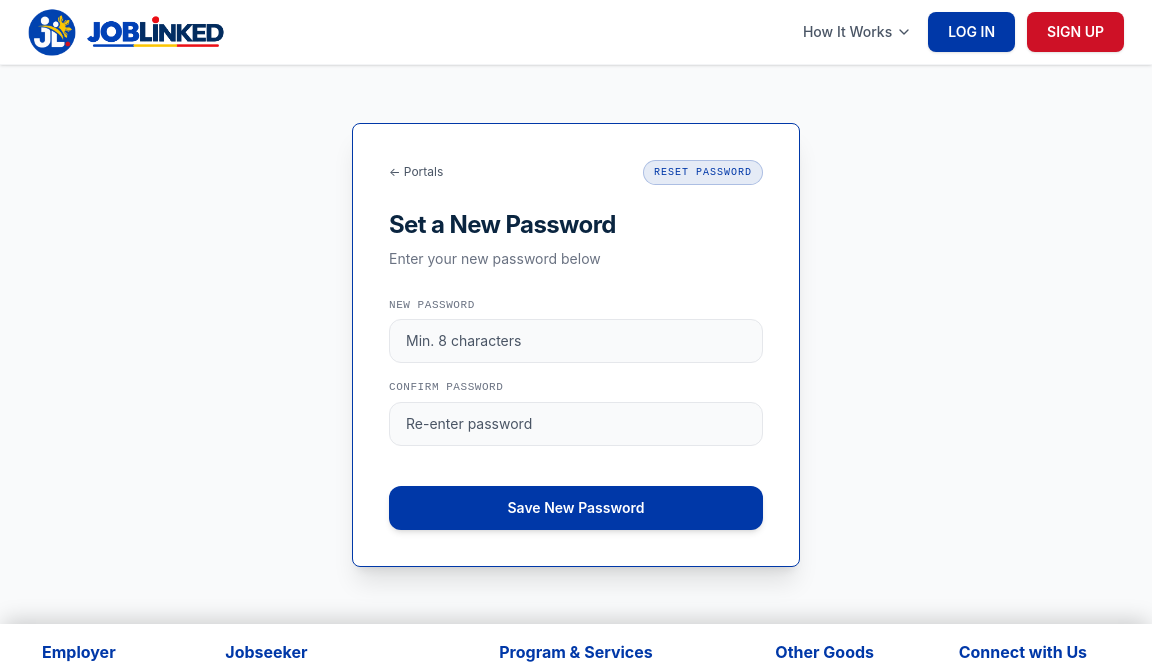
Test: ResetPassword › shows an error when the update fails
Type "password123" into the password field labelled "New Password" at (576, 341), box x1=389 y1=319 x2=763 y2=363
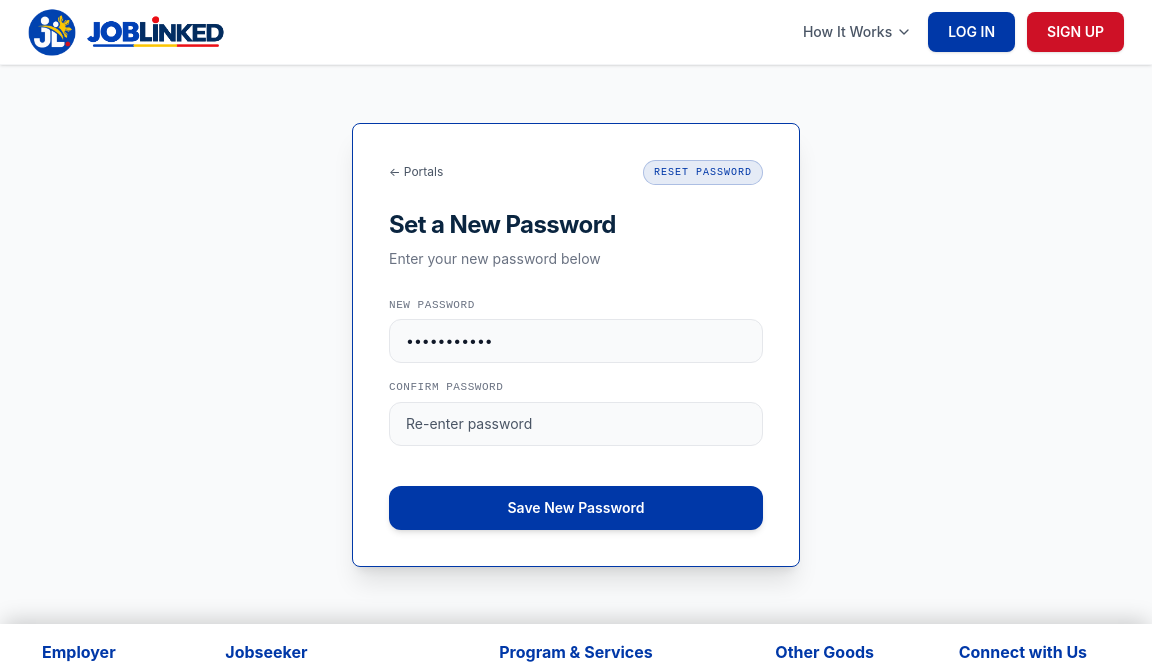
Type "password123" into the password field labelled "Confirm Password" at (576, 424), box x1=389 y1=402 x2=763 y2=446
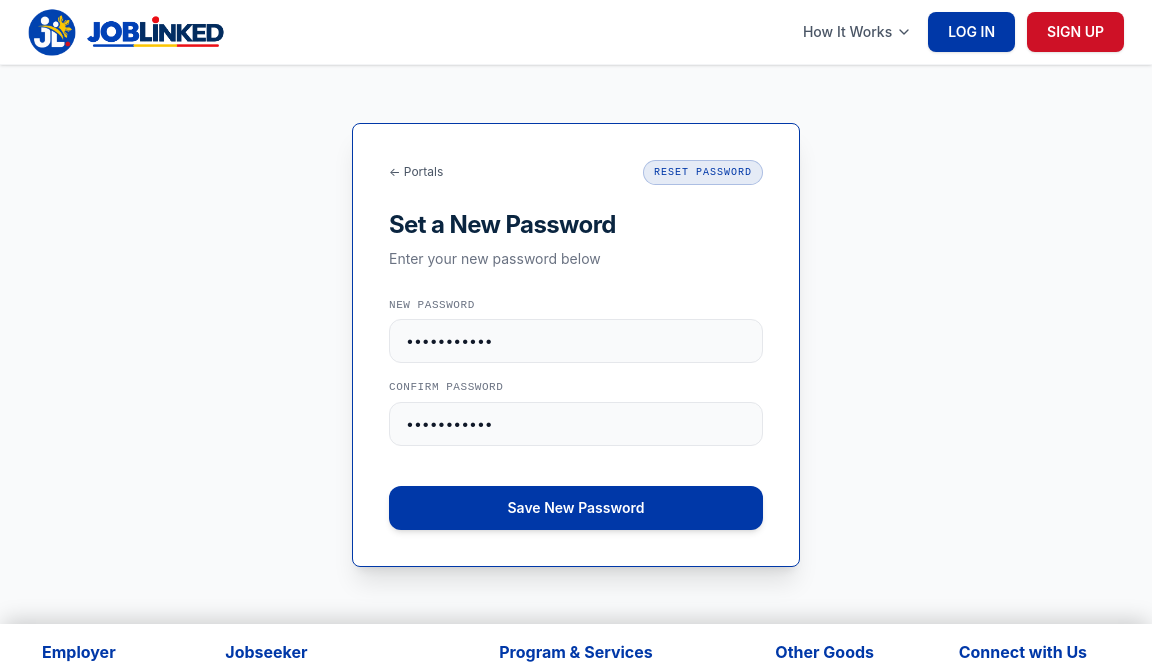
Click the button "Save New Password" at (576, 508), box x1=389 y1=486 x2=763 y2=530
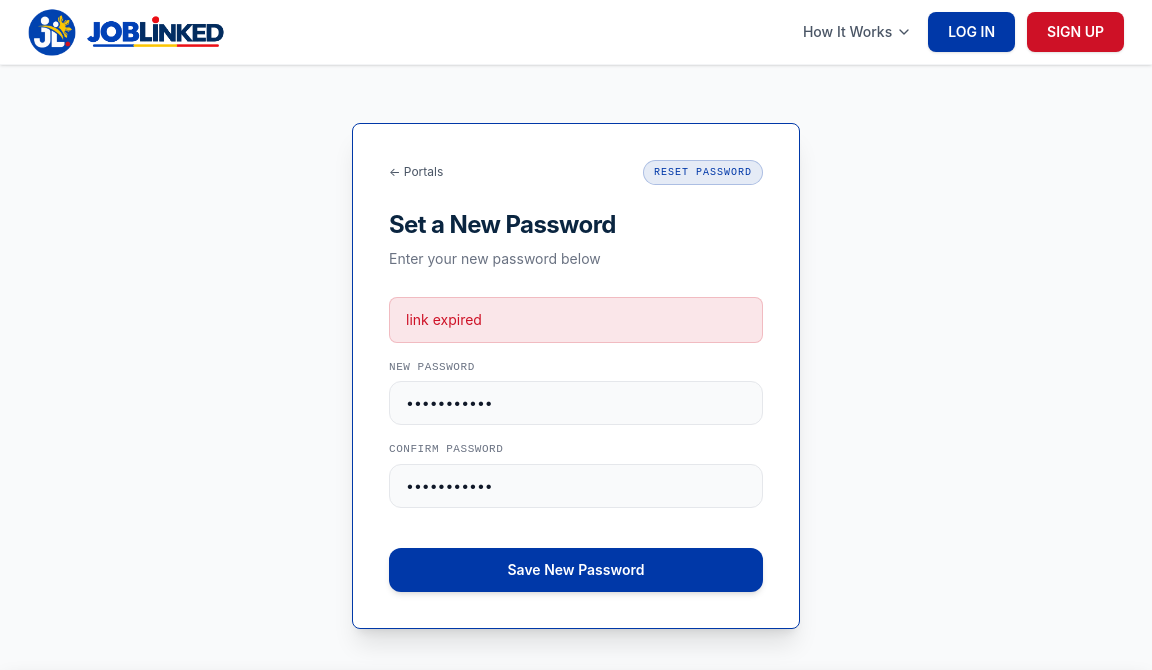
Check: the text "link expired" is shown, box x1=389 y1=297 x2=763 y2=343
